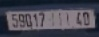0: (83, 12, 91, 25), (25, 13, 32, 27)
1: (33, 12, 39, 27)
4: (76, 12, 83, 26)
5: (11, 13, 19, 28)
7: (38, 12, 47, 27)
9: (18, 12, 25, 28)
a: (57, 12, 63, 28)
